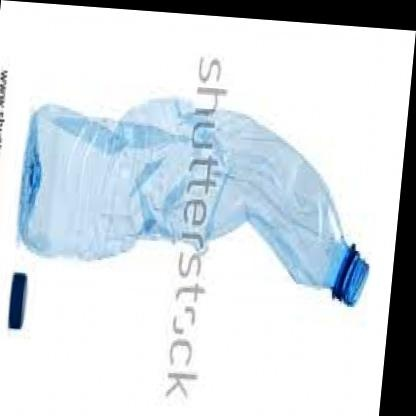trash: (19, 98, 367, 304)
